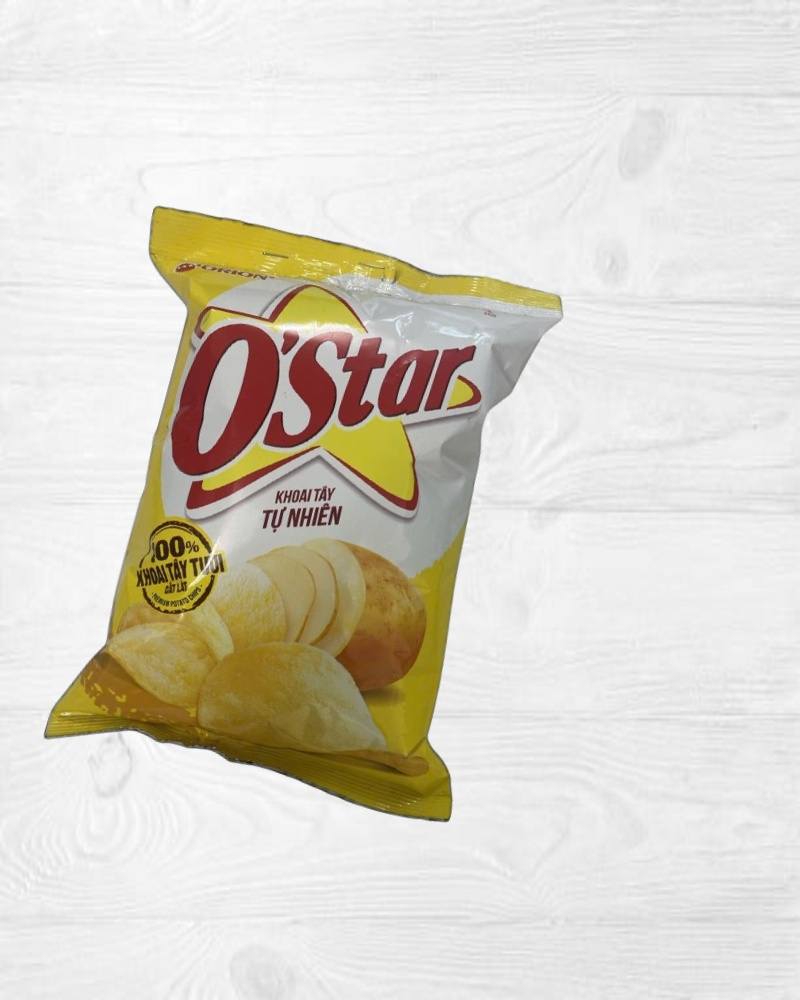O'star: (16, 189, 588, 845)
